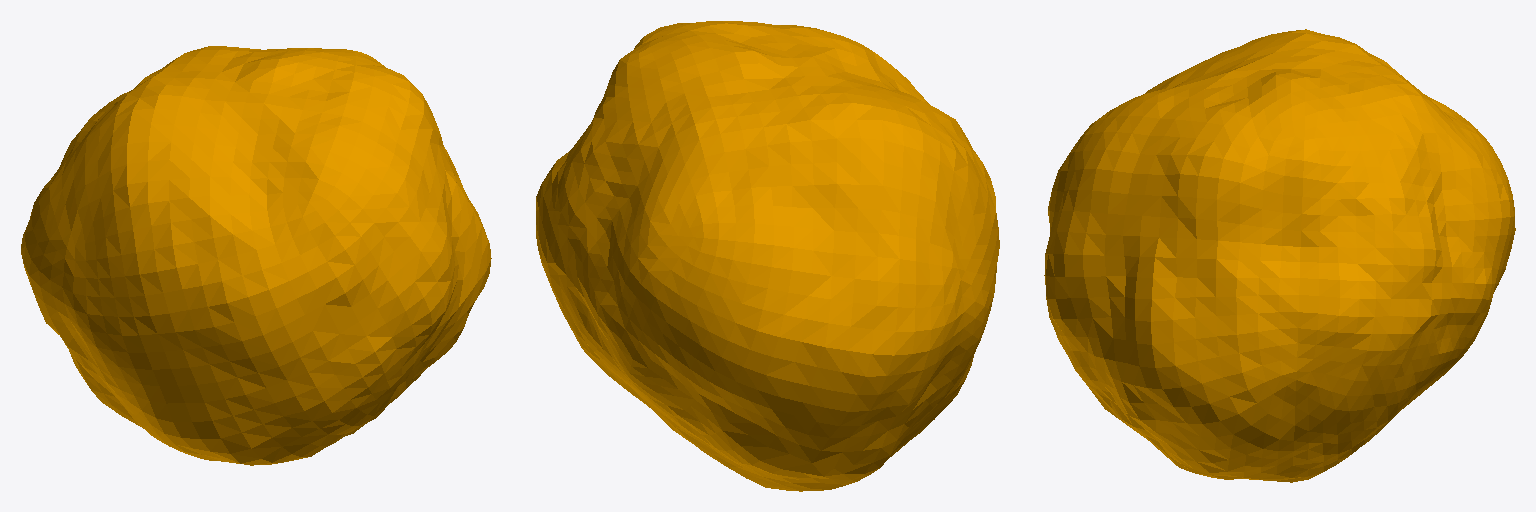
robot.urdf — rock:
<?xml version="1.0" ?>
<robot name="rock">
  <link name="rock">
    <inertial>
      <mass value="0.278"/>
      <origin rpy="0 0 0" xyz="0 0 0"/>
      <inertia ixx="0.000278" ixy="0" ixz="0" iyy="0.000278" iyz="0" izz="0.000278"/>
    </inertial>
    <collision name="rock_collision">
      <origin rpy="0 0 0" xyz="0 0 0"/>
      <geometry>
        <mesh filename="package://rocks/visual/196.dae" scale="1 1 1"/>
      </geometry>
    </collision>
    <visual name="rock_visual">
      <origin rpy="0 0 0" xyz="0 0 0"/>
      <geometry>
        <mesh filename="package://rocks/visual/196.dae" scale="1 1 1"/>
      </geometry>
    </visual>
  </link>
</robot>

--- Render facts (derived) ---
The picture shows the robot from 3 angles, left to right: view 1: azimuth 30°, elevation 25°; view 2: azimuth 150°, elevation 25°; view 3: azimuth 270°, elevation 25°; orthographic projection.
Robot: rock — 1 links, 0 joints (none); root link rock; default pose: all joints at 0.
Links seen in each view (by area): view 1: rock; view 2: rock; view 3: rock.
Boxes of the visible links, box(x1,y1,x2,y2) form: rock: box(21, 46, 491, 465); rock: box(536, 21, 999, 491); rock: box(1044, 29, 1515, 482).
Bounding box of the posed robot: 0.0721 × 0.0703 × 0.0673 m (x, y, z).
Meshes: 1 distinct files referenced, 1 mesh visuals loaded (1 Collada DAE).